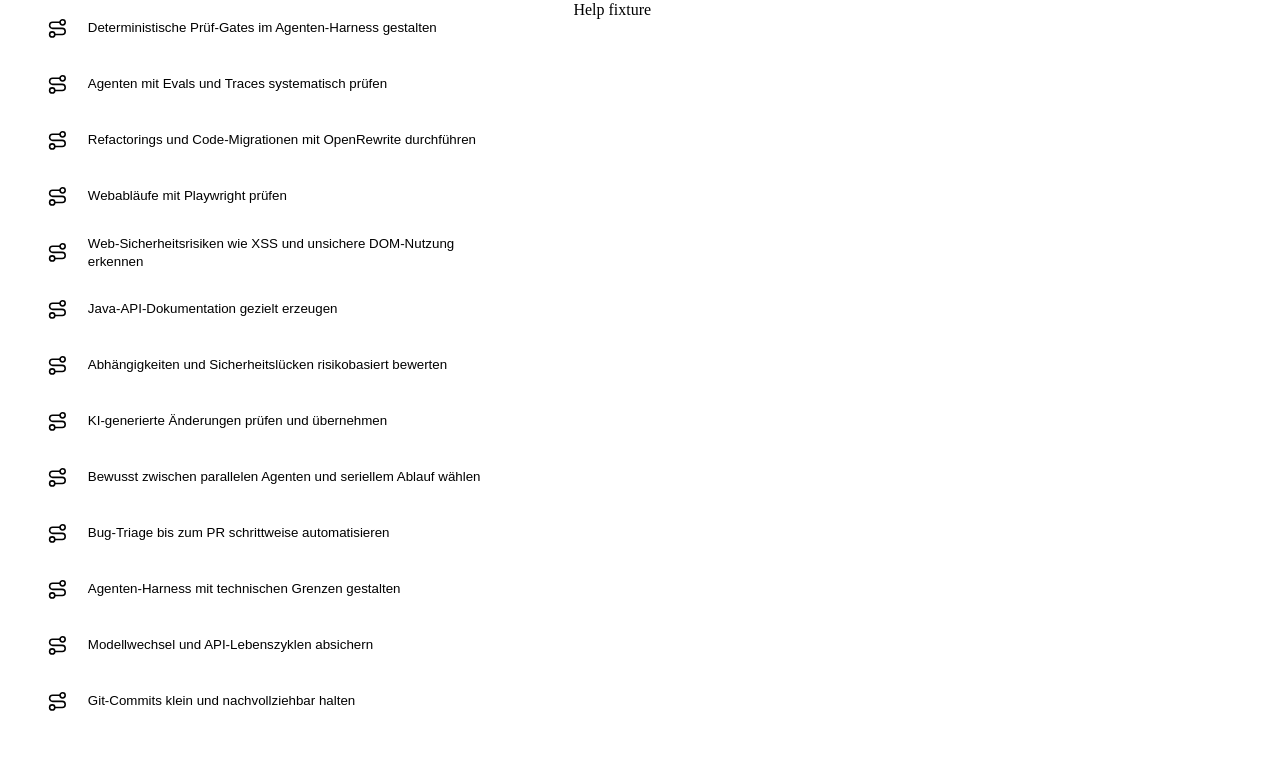
Test: TopicBrowser › shows the topic KI-generierte Änderungen prüfen und übernehmen with content, metadata, and sources
(page scrolled)
Step 1. Click the button "KI-generierte Änderungen prüfen und übernehmen" → (292, 421), box top-left (82, 393), bottom-right (502, 449)
(page scrolled)
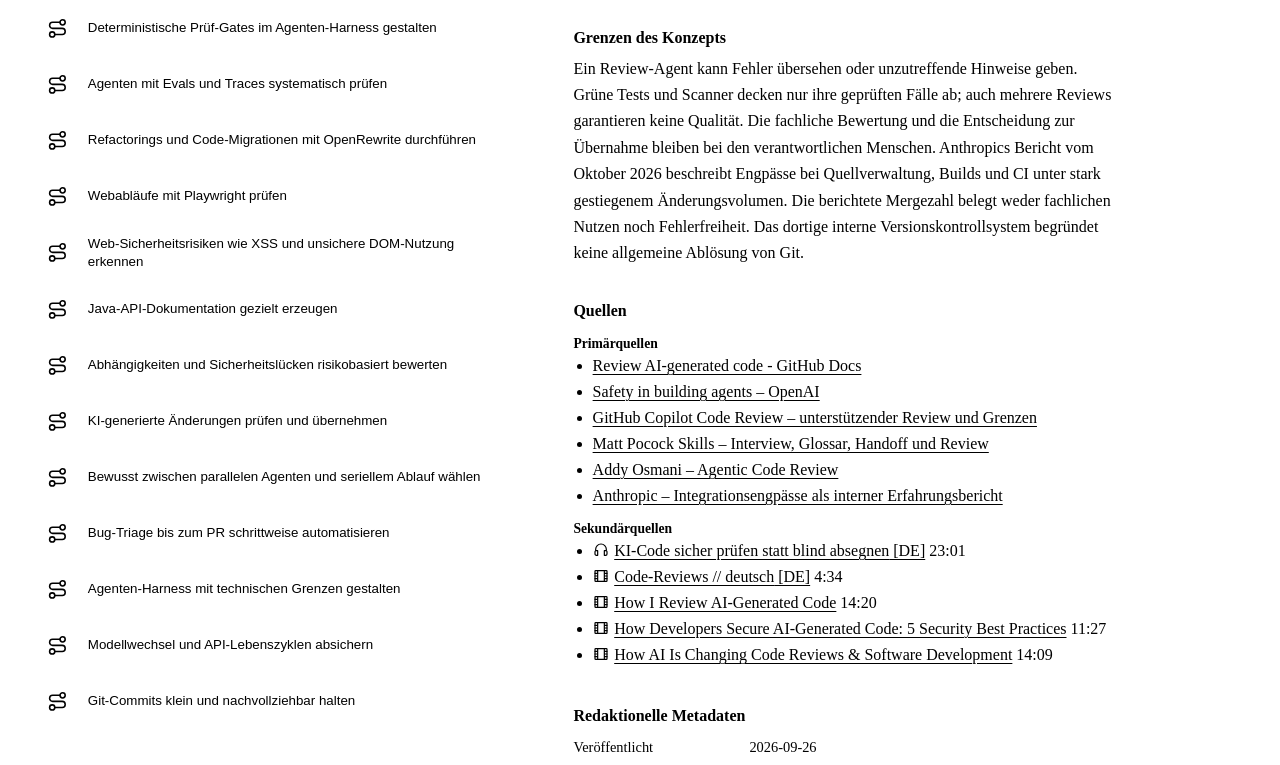
Check: the heading "Grenzen des Konzepts" is shown, box top-left (573, 29), bottom-right (726, 46)
Check: the link "Review AI-generated code - GitHub Docs" is shown, box top-left (593, 357), bottom-right (861, 374)
